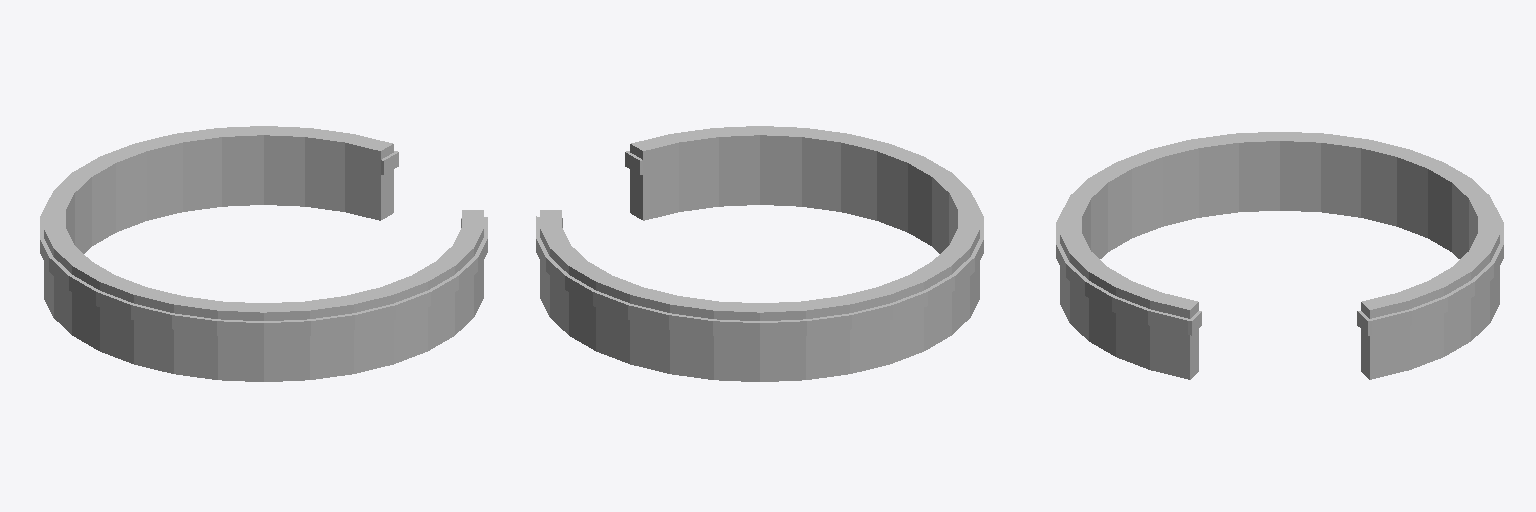
Rendered from Spawn_Ground.obj.
The picture shows the model from 3 angles: view 1: azimuth 30°, elevation 25°; view 2: azimuth 150°, elevation 25°; view 3: azimuth 270°, elevation 25°; orthographic projection.
Parts seen in each view (by area): view 1: Spawn_Bar, Spawn_BarDetail2; view 2: Spawn_Bar, Spawn_BarDetail2; view 3: Spawn_Bar, Spawn_BarDetail2.
Part boxes in pixels (x1,y1,x2,y2): Spawn_Bar: (44,126,483,381); Spawn_BarDetail2: (40,151,487,337); Spawn_Bar: (540,126,979,381); Spawn_BarDetail2: (536,151,983,337); Spawn_Bar: (1060,132,1499,379); Spawn_BarDetail2: (1056,208,1503,335).
Size of the model in its own units: 39.18 by 6.96 by 40.58.